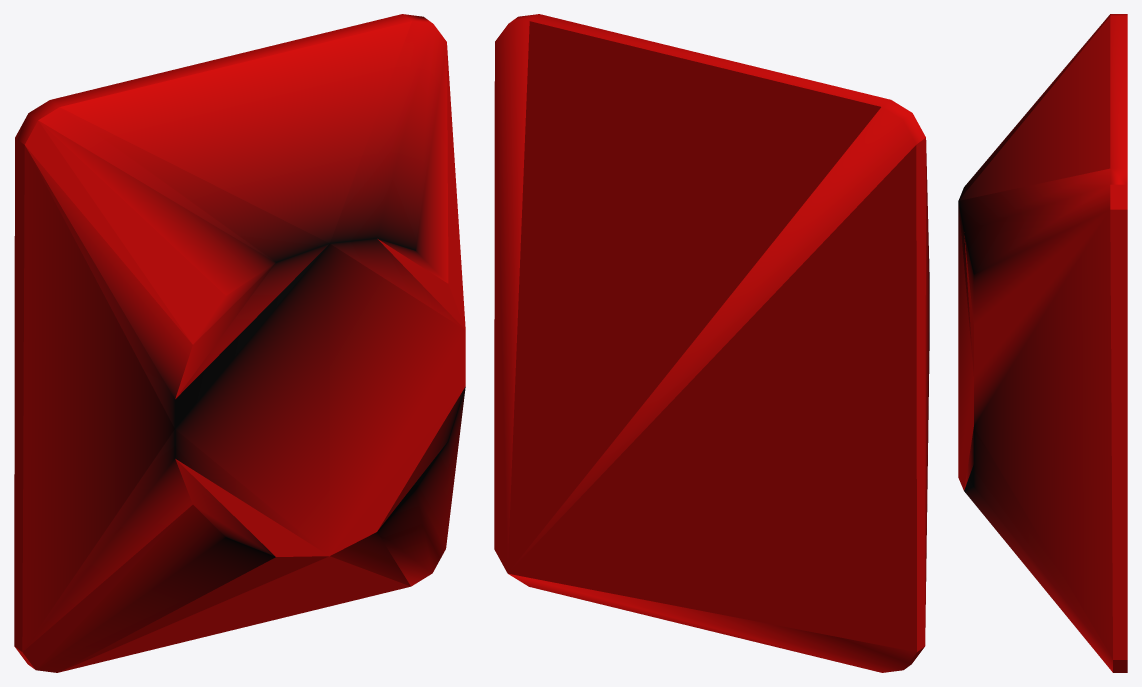
The model's file is gimbal_base_collision.dae.
3 views of the same model, side by side, from view 1: azimuth 30°, elevation 25°; view 2: azimuth 150°, elevation 25°; view 3: azimuth 270°, elevation 25° (orthographic). The views are drawn at different scales.
Parts seen in each view (by area): view 1: gimbal_base_collision; view 2: gimbal_base_collision; view 3: gimbal_base_collision.
Part boxes in pixels (left/top/right/bottom): gimbal_base_collision: left=14, top=14, right=465, bottom=672; gimbal_base_collision: left=494, top=14, right=929, bottom=672; gimbal_base_collision: left=958, top=14, right=1127, bottom=672.
Size of the model in its own units: 0.0728 by 0.0931 by 0.0284.
